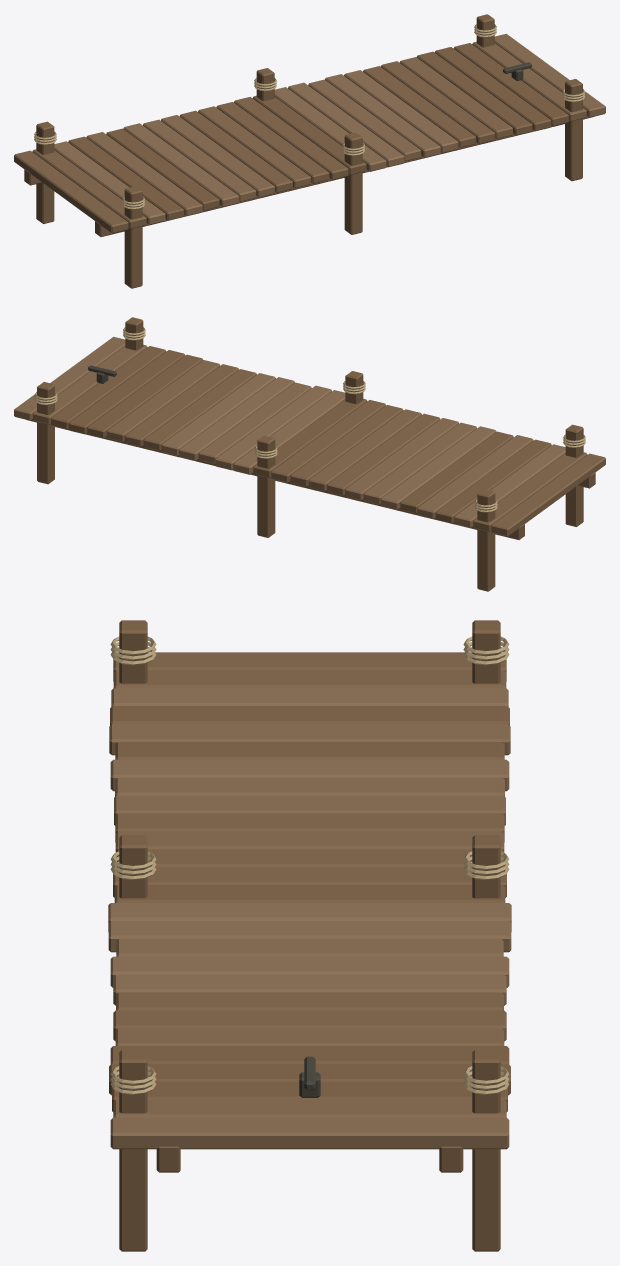
File: staging_dock.glb
The picture shows the model from 3 angles, top to bottom: view 1: azimuth 30°, elevation 25°; view 2: azimuth 150°, elevation 25°; view 3: azimuth 270°, elevation 25°; orthographic projection. The views are drawn at different scales.
Visible parts, largest first — view 1: Dock plank, Dock plank.023, Dock plank.004, Dock plank.006, Dock plank.022, Dock plank.017, Dock plank.012, Dock plank.020, Dock plank.018, Dock plank.008, Dock plank.015, Dock plank.003 (+22 smaller); view 2: Dock plank, Dock plank.023, Dock plank.004, Dock plank.006, Dock plank.022, Dock plank.017, Dock plank.012, Dock plank.020, Dock plank.018, Dock plank.008, Dock plank.015, Dock plank.003 (+22 smaller); view 3: Dock plank.026, Dock plank.006, Dock plank.017, Dock plank.018, Dock plank.020, Dock plank.015, Dock plank.008, Dock plank.009, Dock plank.004, Dock plank.007, Dock plank.019, Dock plank.016 (+21 smaller).
Boxes of the visible parts, x1=… form: Dock plank: x1=14, y1=150, x2=128, y2=233; Dock plank.023: x1=434, y1=47, x2=551, y2=131; Dock plank.004: x1=86, y1=132, x2=202, y2=216; Dock plank.006: x1=123, y1=123, x2=239, y2=206; Dock plank.022: x1=416, y1=51, x2=532, y2=135; Dock plank.017: x1=325, y1=74, x2=440, y2=157; Dock plank.012: x1=234, y1=97, x2=348, y2=179; Dock plank.020: x1=380, y1=61, x2=495, y2=143; Dock plank.018: x1=344, y1=70, x2=458, y2=152; Dock plank.008: x1=161, y1=115, x2=274, y2=197; Dock plank.015: x1=288, y1=82, x2=404, y2=167; Dock plank.003: x1=68, y1=136, x2=184, y2=220; Dock plank: x1=491, y1=453, x2=605, y2=536; Dock plank.023: x1=68, y1=350, x2=185, y2=434; Dock plank.004: x1=417, y1=435, x2=533, y2=519; Dock plank.006: x1=380, y1=426, x2=496, y2=509; Dock plank.022: x1=87, y1=354, x2=203, y2=438; Dock plank.017: x1=179, y1=377, x2=294, y2=460; Dock plank.012: x1=271, y1=400, x2=385, y2=482; Dock plank.020: x1=124, y1=364, x2=239, y2=446; Dock plank.018: x1=161, y1=373, x2=275, y2=455; Dock plank.008: x1=345, y1=418, x2=458, y2=500; Dock plank.015: x1=215, y1=385, x2=331, y2=470; Dock plank.003: x1=435, y1=439, x2=551, y2=523; Dock plank.026: x1=110, y1=1117, x2=509, y2=1149; Dock plank.006: x1=110, y1=759, x2=509, y2=791; Dock plank.017: x1=110, y1=956, x2=509, y2=987; Dock plank.018: x1=113, y1=974, x2=506, y2=1005; Dock plank.020: x1=113, y1=1010, x2=506, y2=1041; Dock plank.015: x1=108, y1=921, x2=511, y2=952; Dock plank.008: x1=114, y1=795, x2=505, y2=825; Dock plank.009: x1=115, y1=813, x2=504, y2=842; Dock plank.004: x1=109, y1=724, x2=510, y2=755; Dock plank.007: x1=115, y1=777, x2=504, y2=796; Dock plank.019: x1=116, y1=992, x2=503, y2=1010; Dock plank.016: x1=116, y1=938, x2=503, y2=956.
Size of the model in its own units: 8.1 by 1.5 by 2.86.
